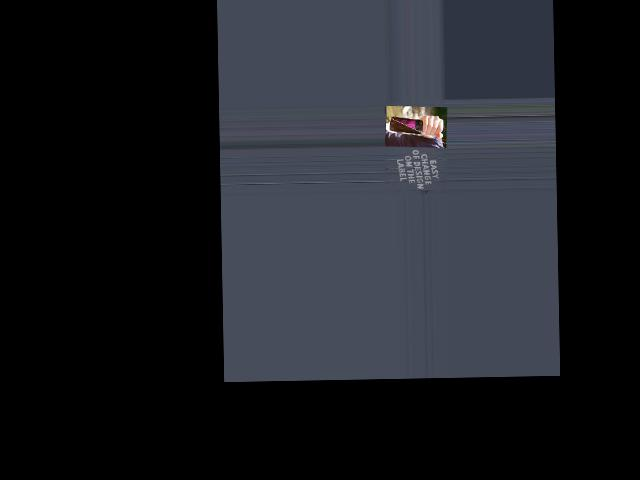beer: (389, 116, 444, 135)
